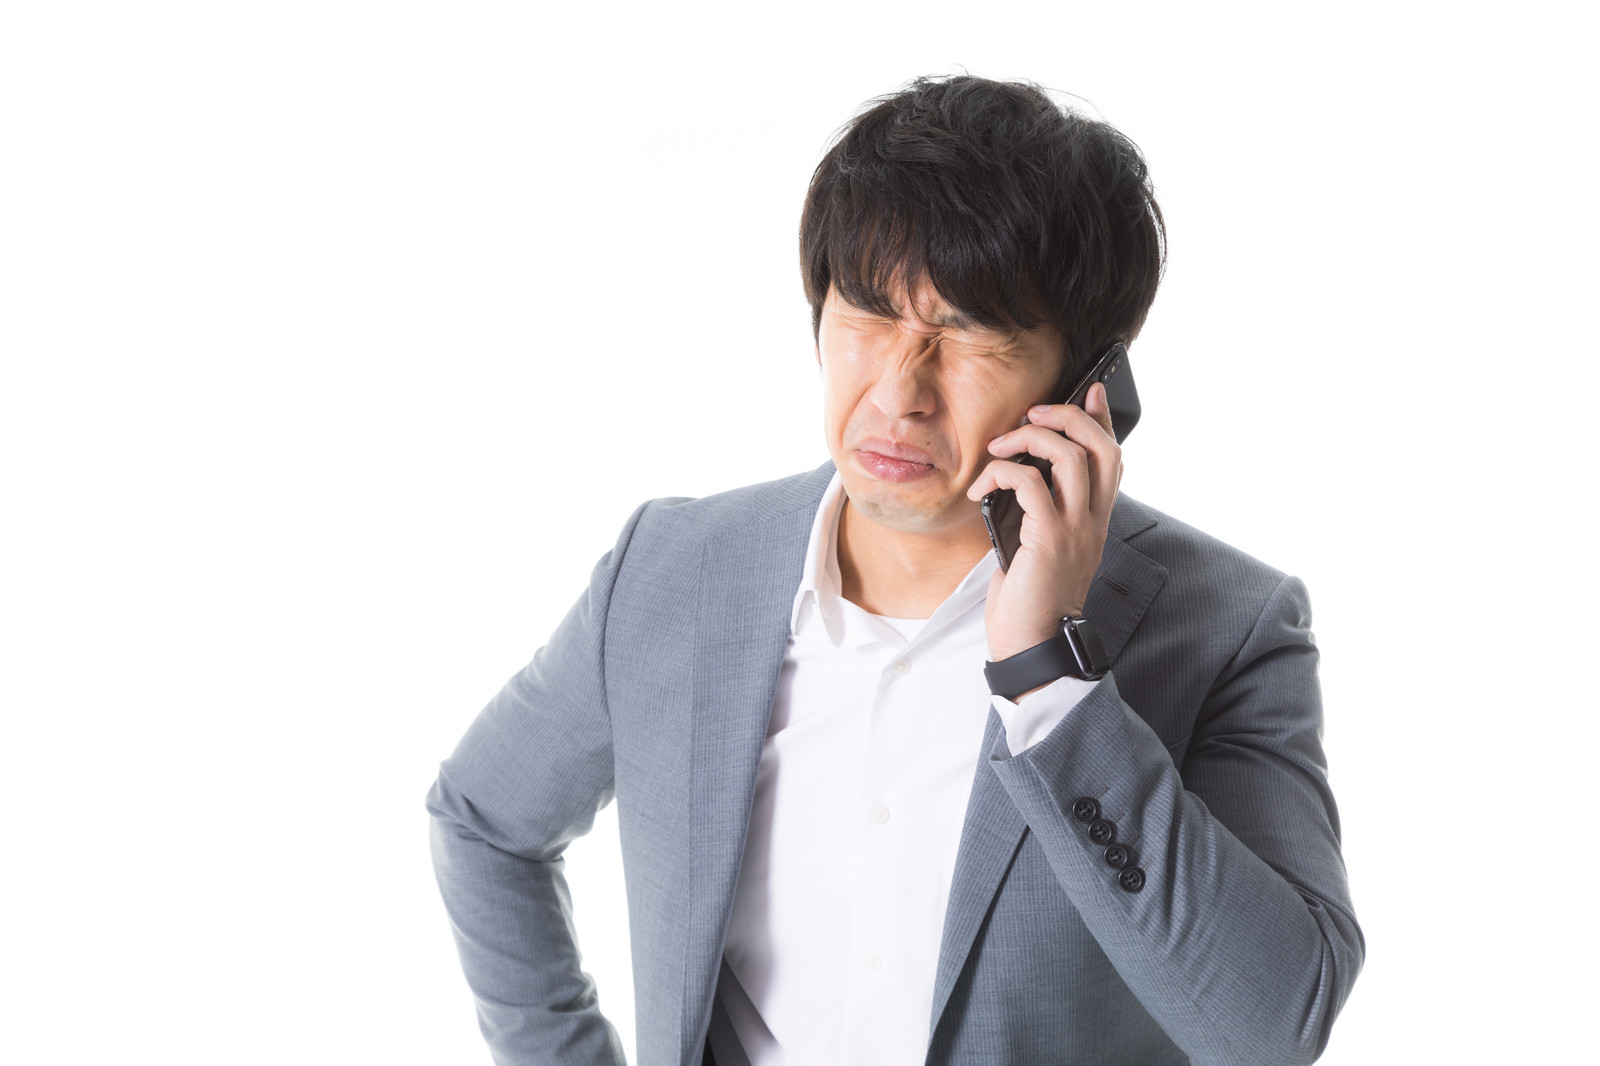face: (816, 257, 1065, 535)
hand: (967, 381, 1122, 651)
